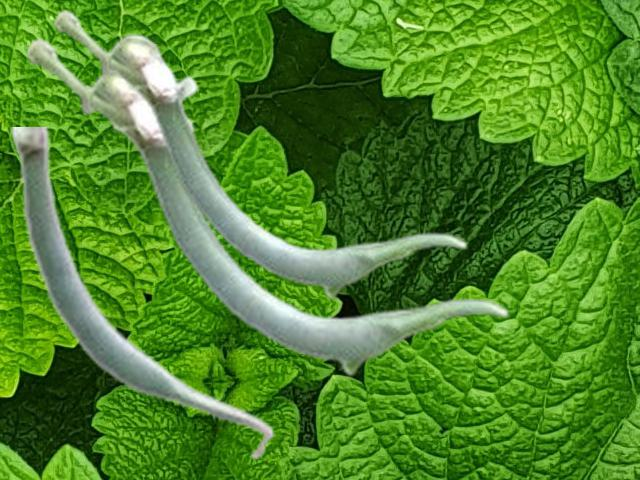french_bean: (25, 36, 509, 376), (53, 8, 467, 299), (10, 127, 274, 461)
